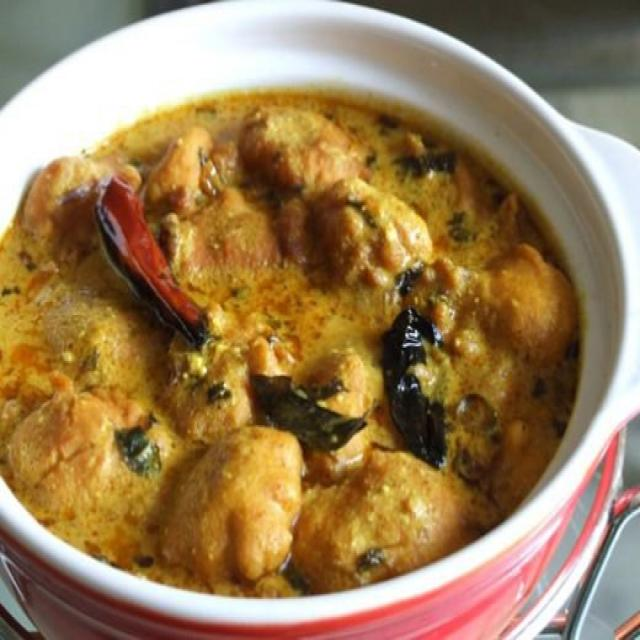Kadhi Pakora: (2, 93, 586, 605)
